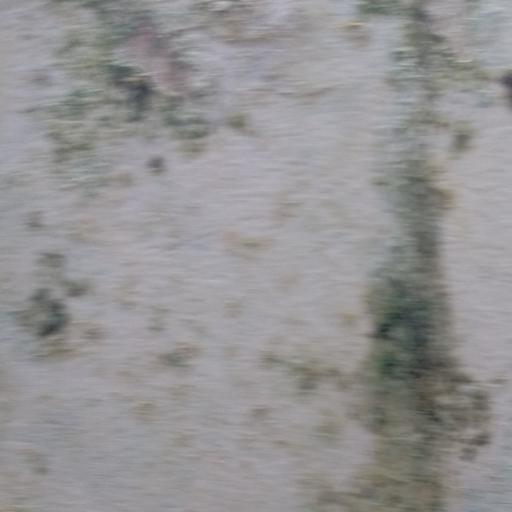algae: (300, 10, 512, 512)
